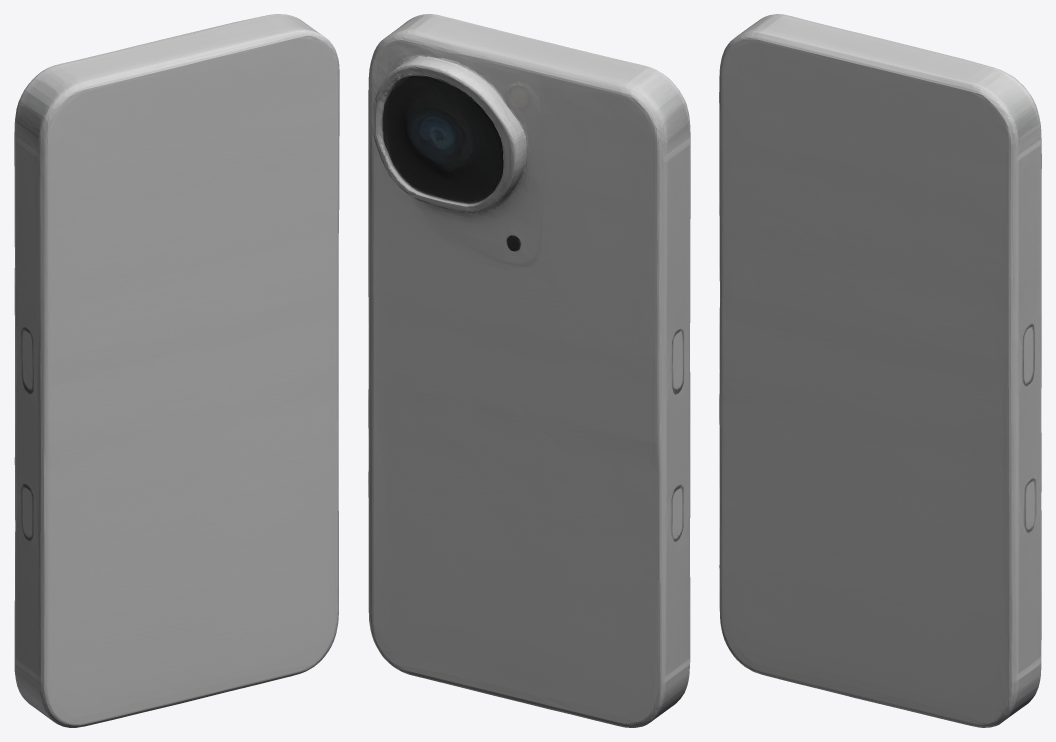
The model's file is phone.glb.
3 renders of one model, left to right at view 1: azimuth 30°, elevation 25°; view 2: azimuth 150°, elevation 25°; view 3: azimuth 330°, elevation 25°, orthographic.
Parts seen in each view (by area): view 1: geometry_0; view 2: geometry_0; view 3: geometry_0.
Boxes of the visible parts, x1,y1,x2,y2 form: geometry_0: [14, 14, 339, 727]; geometry_0: [368, 14, 690, 727]; geometry_0: [719, 14, 1041, 727].
Size of the model in its own units: 0.4873 by 1 by 0.1195.
Materials: 1 (1 with a texture image).
